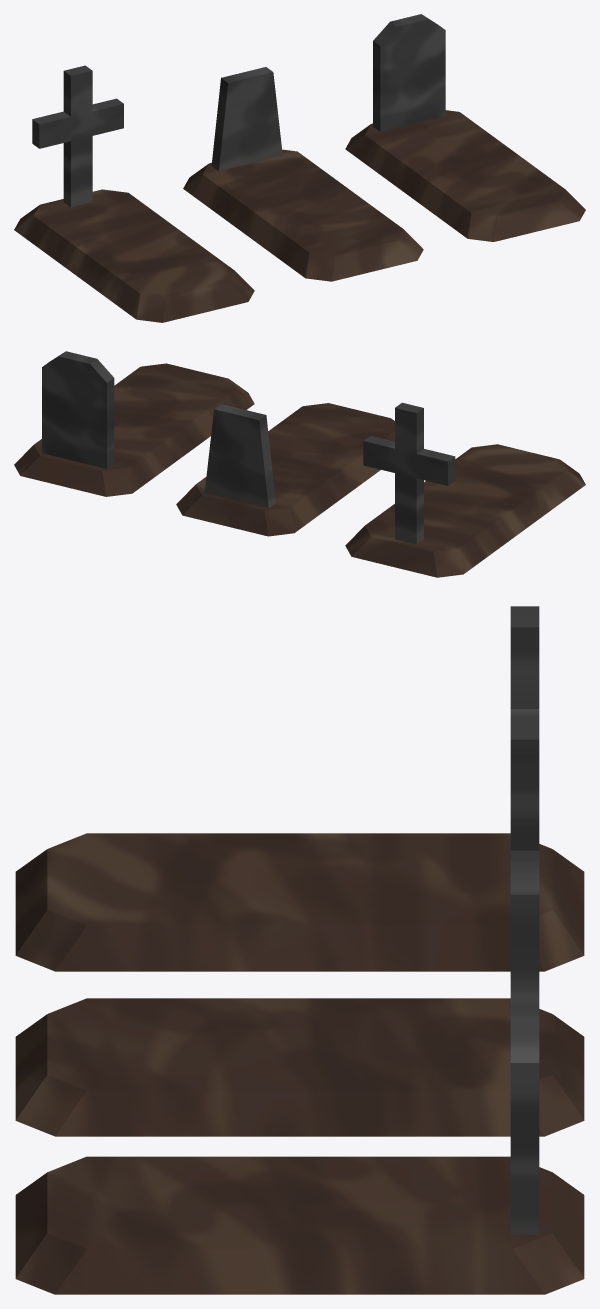
The model's file is Graves.fbx.
The picture shows the model from 3 angles, top to bottom: view 1: azimuth 30°, elevation 25°; view 2: azimuth 150°, elevation 25°; view 3: azimuth 270°, elevation 25°; orthographic projection. The views are drawn at different scales.
Parts seen in each view (by area): view 1: Grave3, Grave1, Grave2; view 2: Grave1, Grave3, Grave2; view 3: Grave3, Grave1, Grave2.
Part boxes in pixels (left/top/right/bottom): Grave3: left=345, top=14, right=585, bottom=241; Grave1: left=14, top=65, right=254, bottom=322; Grave2: left=183, top=67, right=423, bottom=281; Grave1: left=345, top=402, right=585, bottom=577; Grave3: left=14, top=351, right=254, bottom=496; Grave2: left=176, top=403, right=394, bottom=536; Grave3: left=15, top=986, right=584, bottom=1294; Grave1: left=15, top=606, right=584, bottom=971; Grave2: left=15, top=850, right=584, bottom=1136.
Size of the model in its own units: 542 by 171 by 297.
